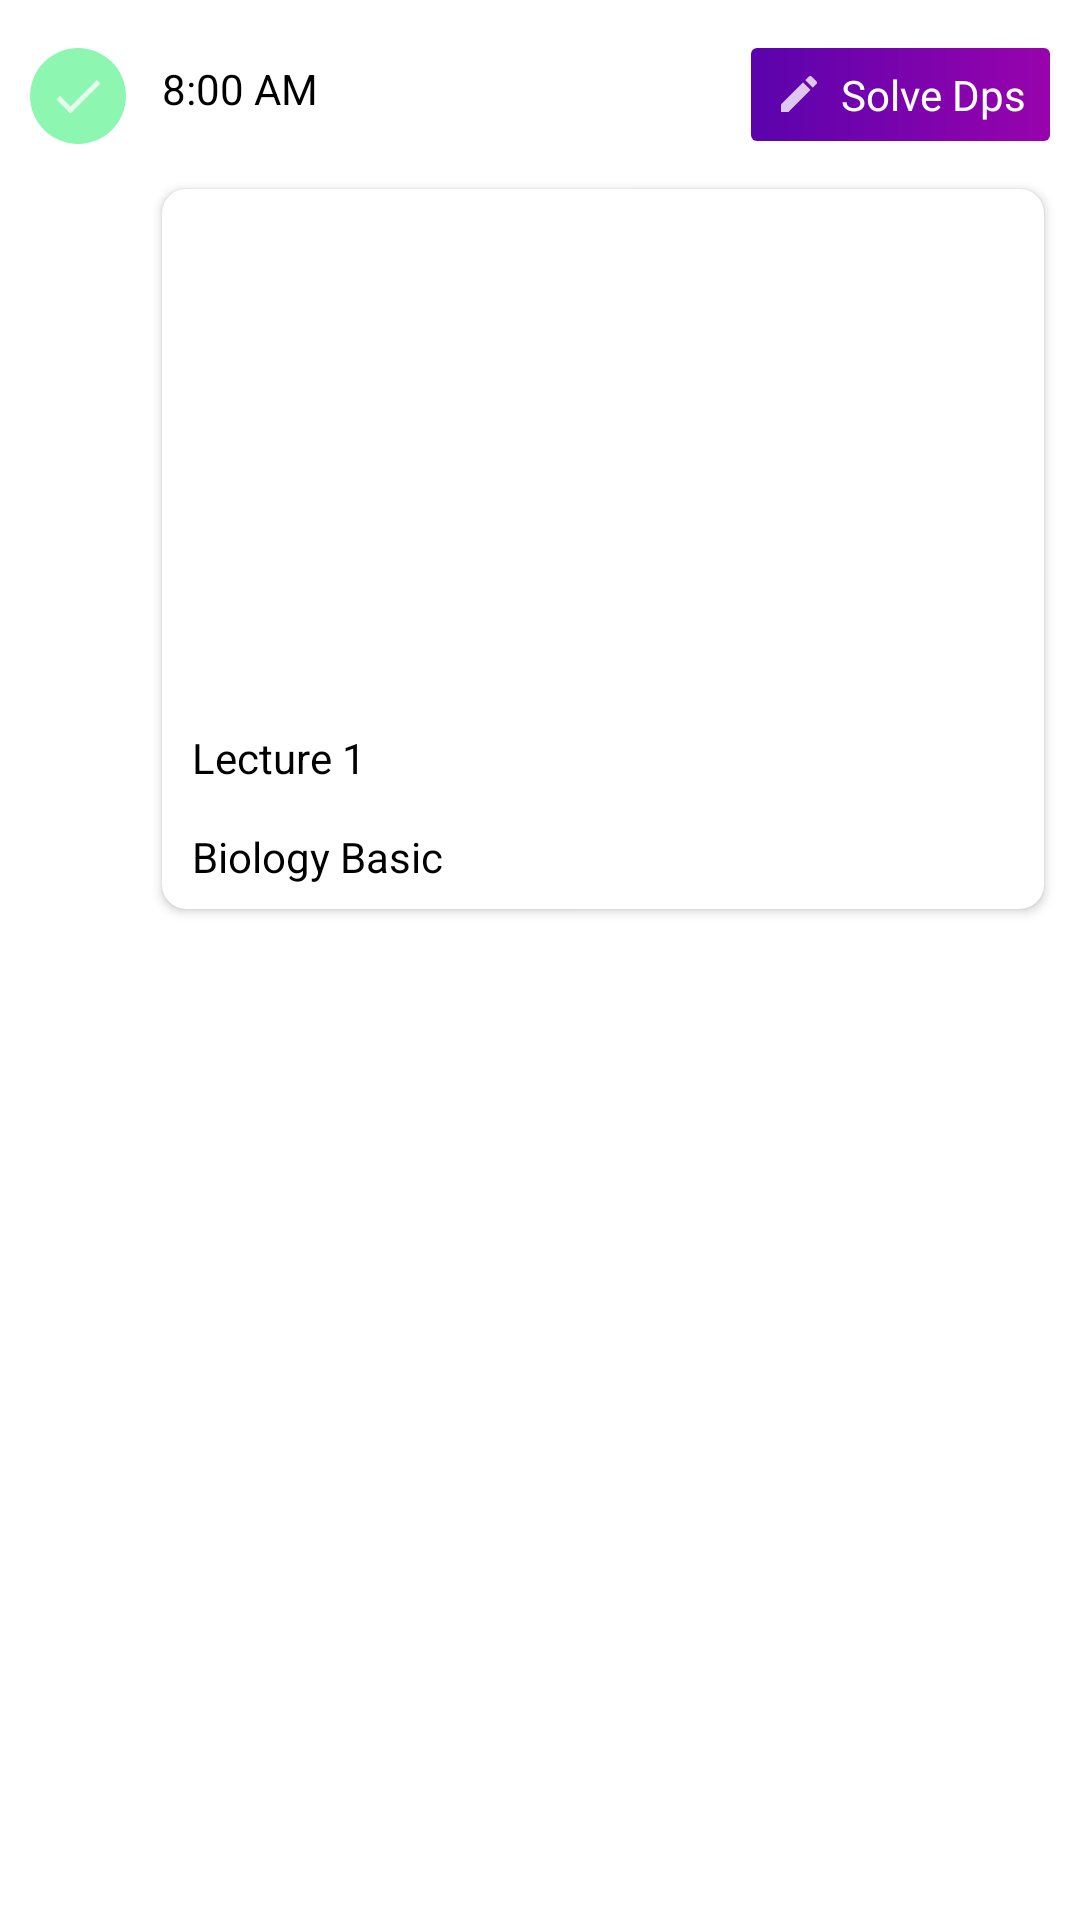

Icons on this 1080w x 1920h Android screen, each with the point to tap as (x=x, y=y):
check: (x=78, y=96)
